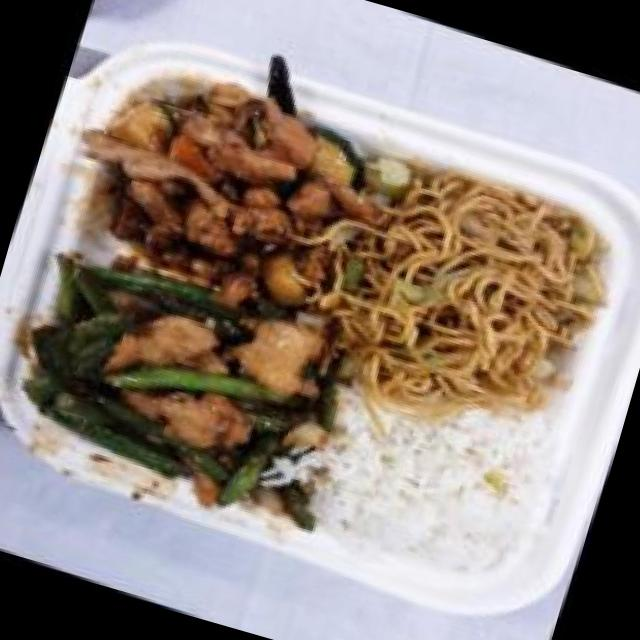Chow Mein: (299, 127, 640, 435)
Kung Pao Chicken: (51, 36, 396, 332)
String Bean Chicken Breast: (0, 218, 367, 534)
White Steamed Rice: (286, 358, 558, 592)
